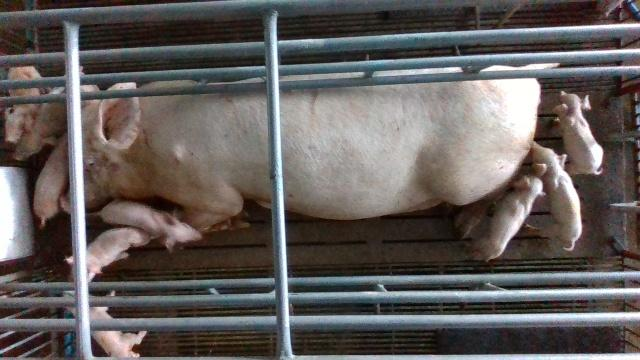piglet: (469, 176, 546, 259), (529, 140, 582, 250), (63, 291, 148, 358), (64, 227, 151, 290), (98, 199, 202, 251), (12, 86, 70, 160), (552, 91, 603, 175), (32, 131, 69, 229), (4, 67, 51, 144)
sow-sleep: (59, 62, 566, 232)
